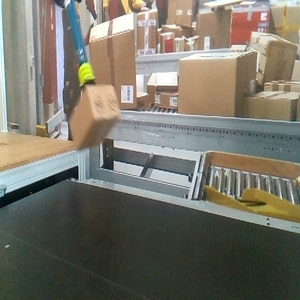box: (68, 84, 124, 152)
